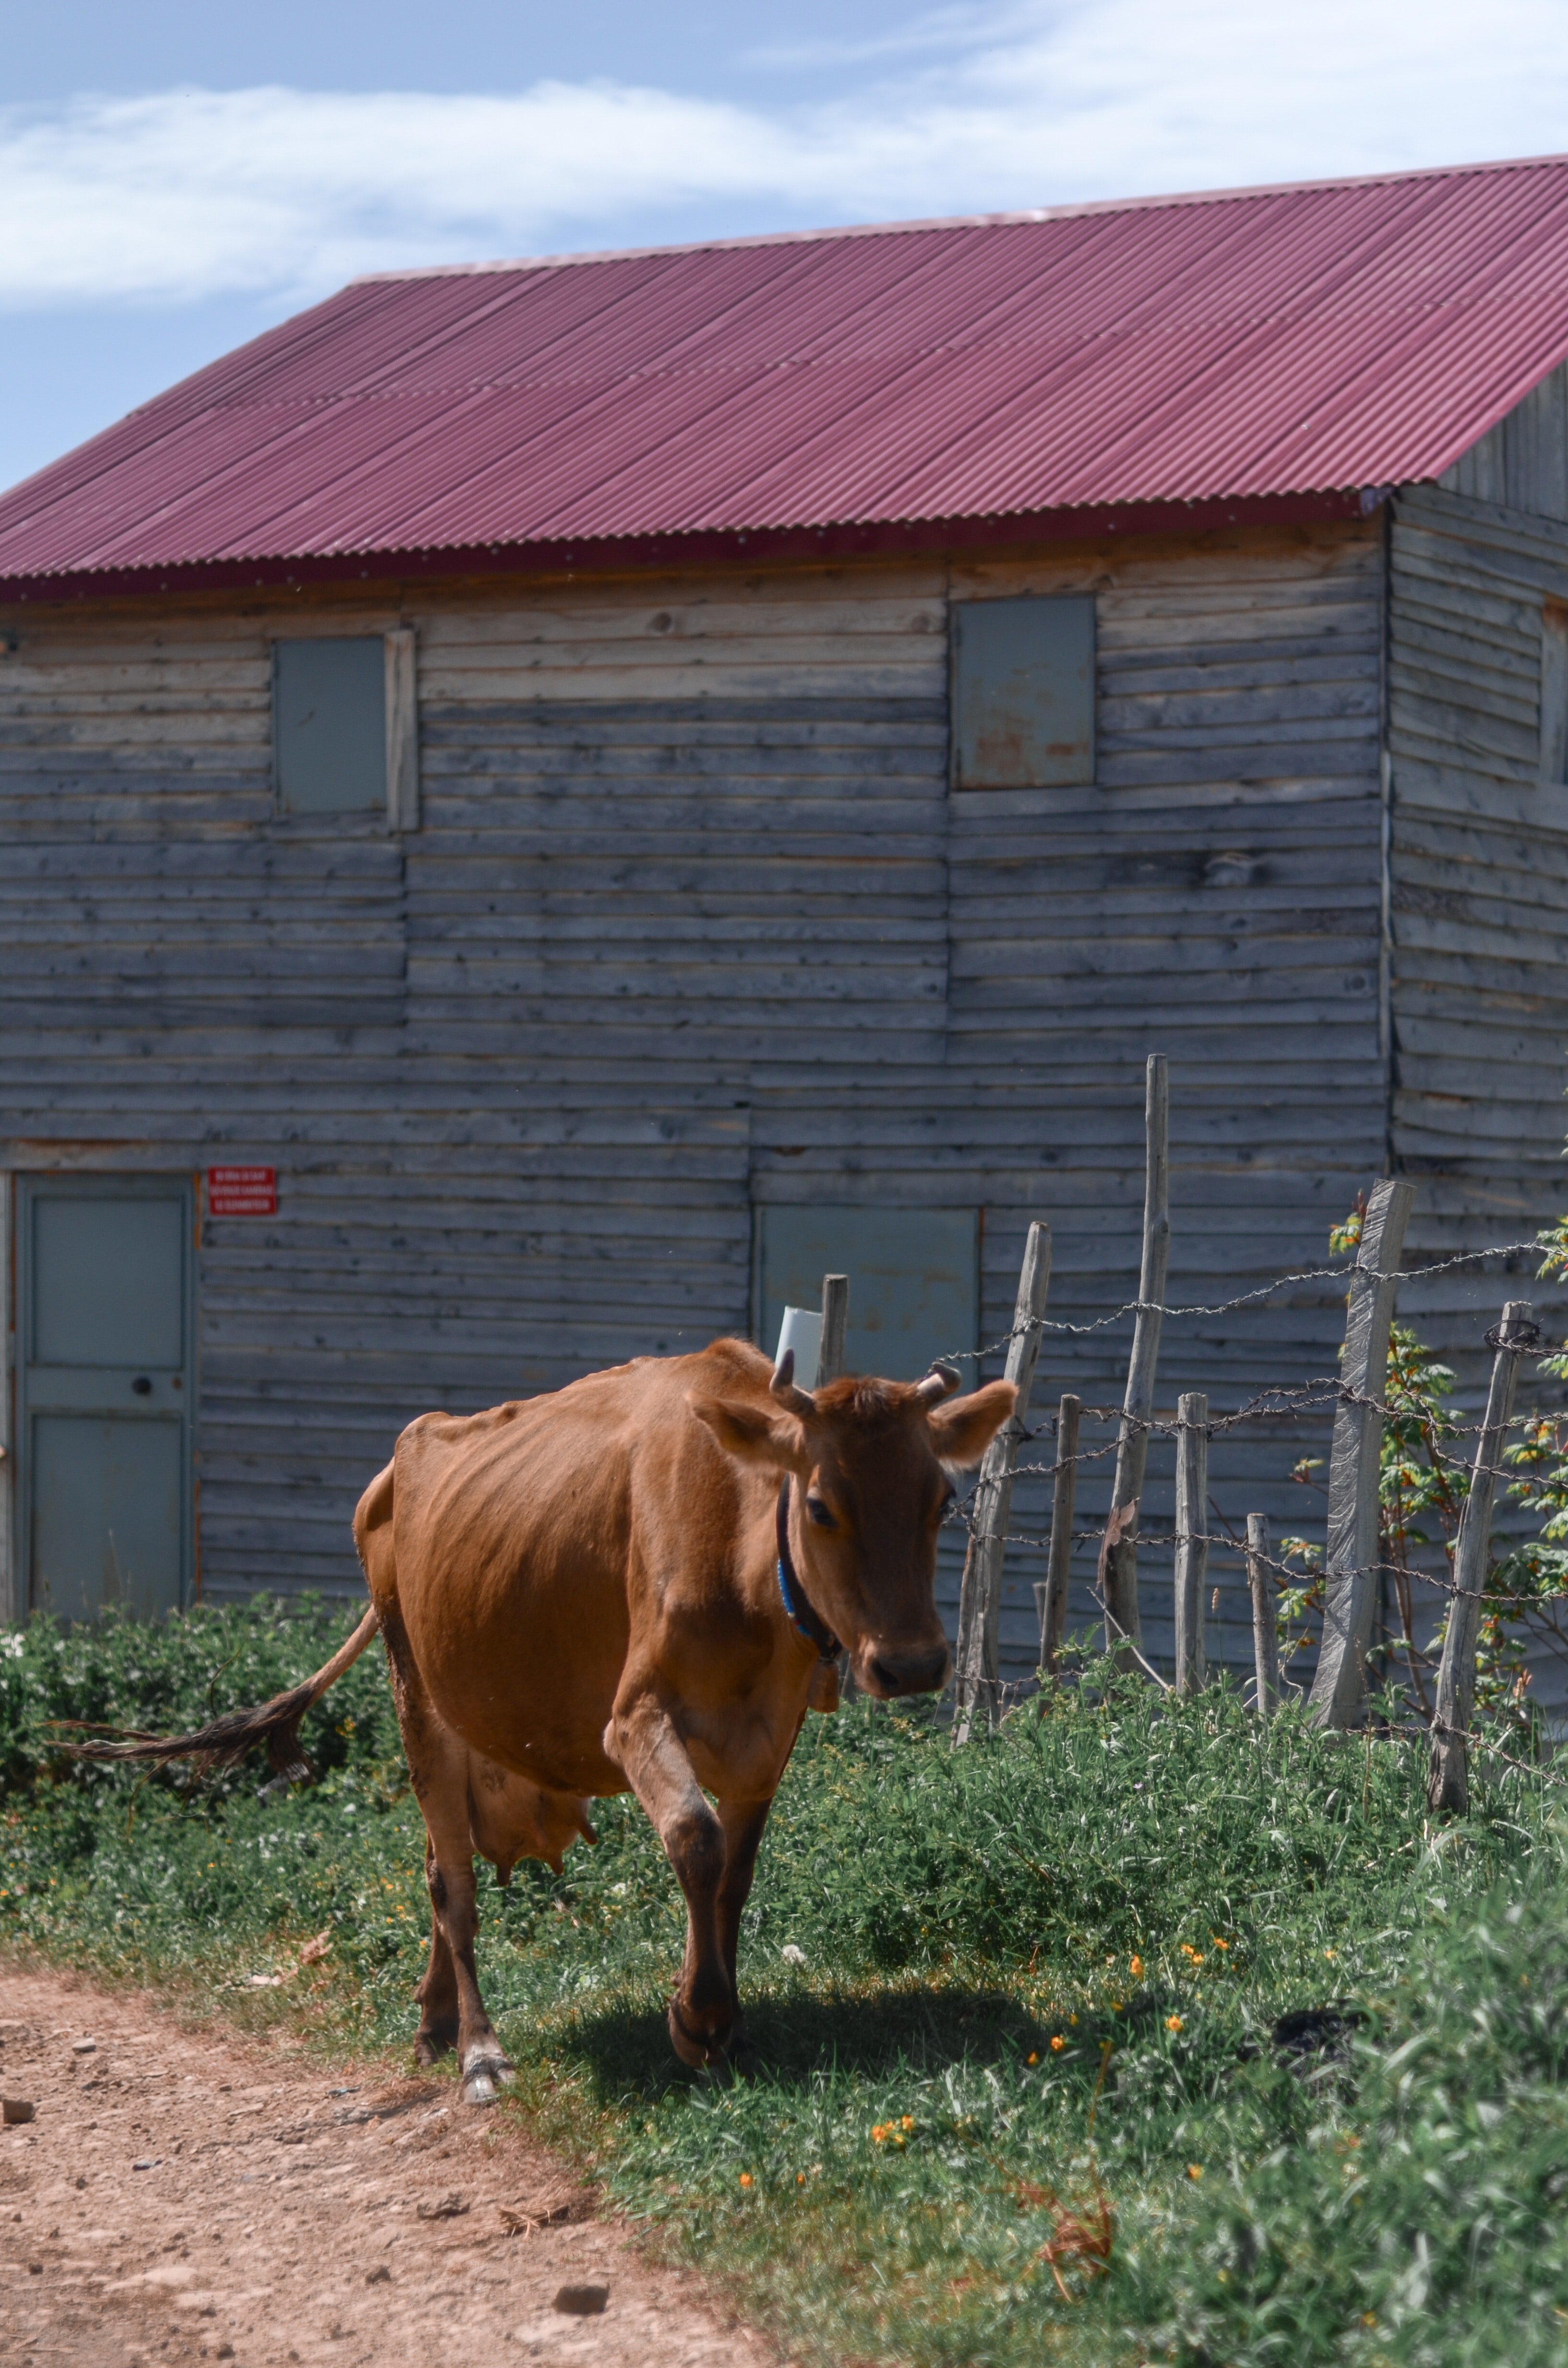MilkCow: (111, 1331, 1037, 2107)
